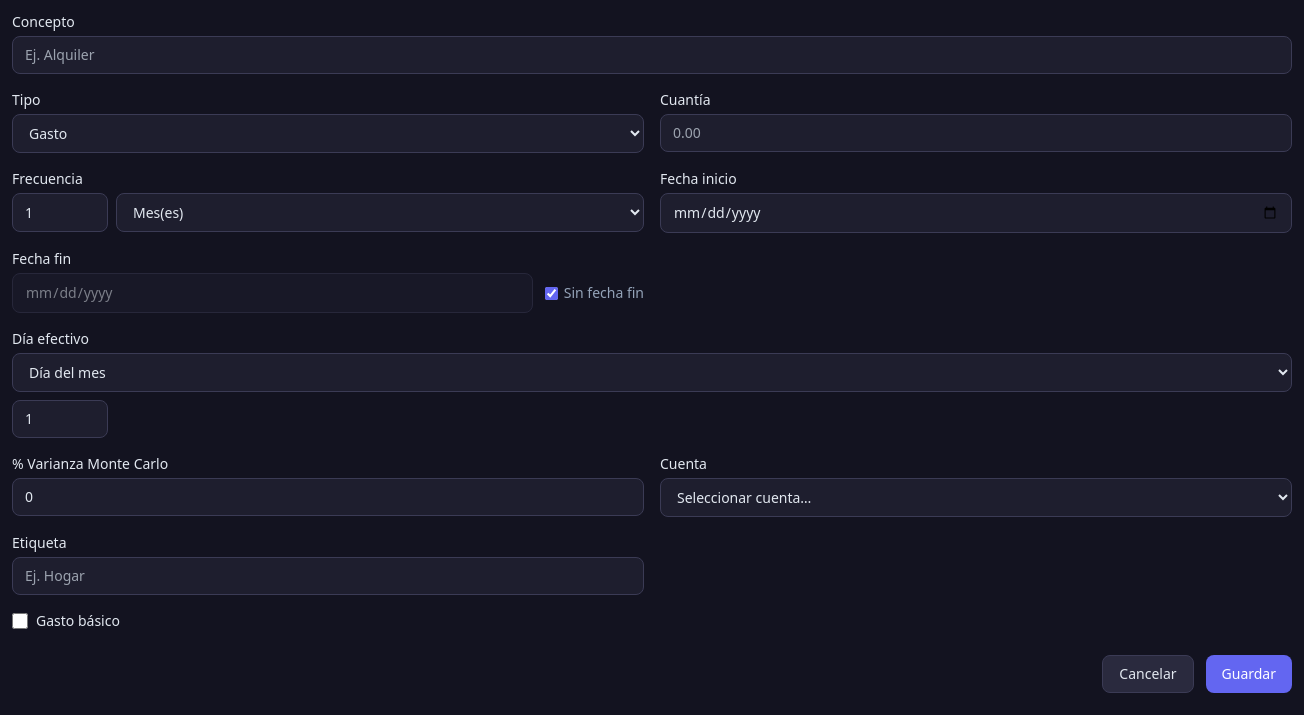
FixedMovementForm › shows validation error when concept is empty
Click the button "Guardar".
click(1249, 674)  # box [1206, 655, 1292, 693]
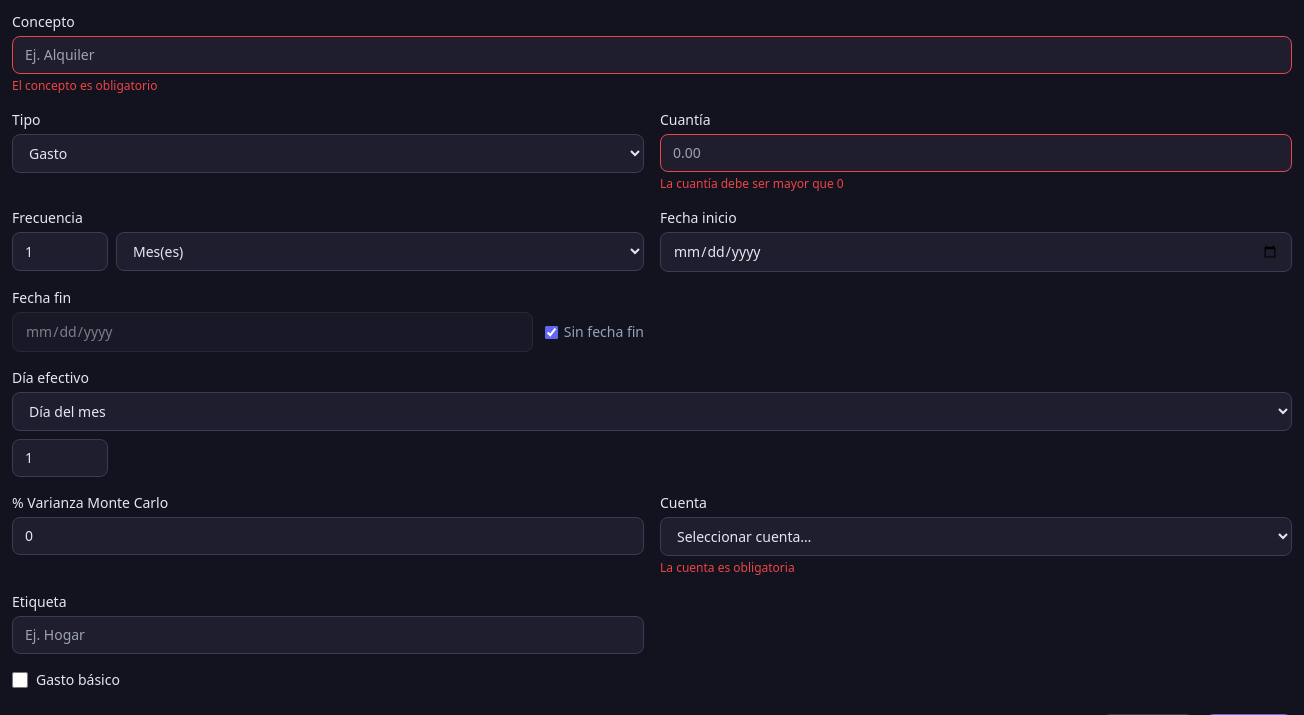
Expected: the text "El concepto es obligatorio" is shown, [12, 77, 157, 94]
